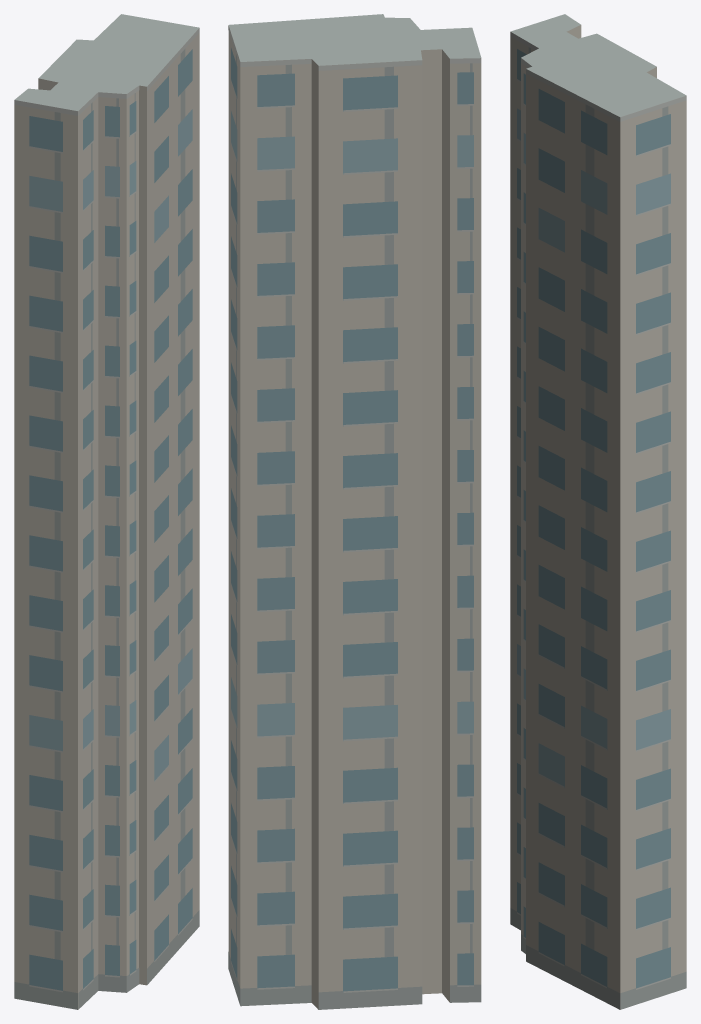
The model's file is survey-upis-32723608.glb.
The picture shows the model from 3 angles, left to right: view 1: azimuth 30°, elevation 25°; view 2: azimuth 150°, elevation 25°; view 3: azimuth 270°, elevation 25°; orthographic projection. The views are drawn at different scales.
Parts seen in each view (by area): view 1: survey-upis-32723608.tmp; view 2: survey-upis-32723608.tmp; view 3: survey-upis-32723608.tmp.
Boxes of the visible parts, x1,y1,x2,y2 form: survey-upis-32723608.tmp: [14, 14, 199, 1009]; survey-upis-32723608.tmp: [228, 14, 481, 1009]; survey-upis-32723608.tmp: [510, 14, 686, 1009].
Size of the model in its own units: 11.36 by 45.75 by 8.21.
